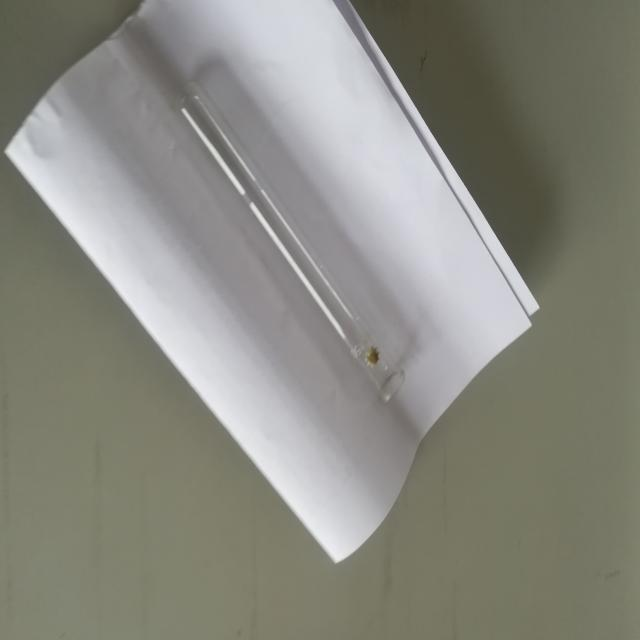Test_Tube: (155, 69, 424, 473)
